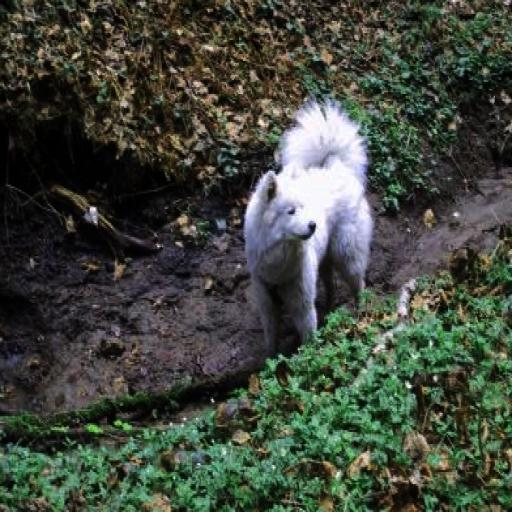dog_face: (254, 172, 315, 246)
